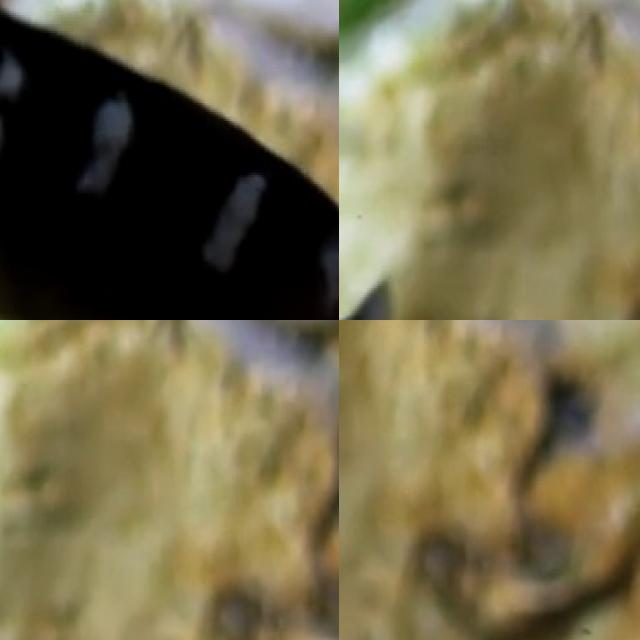fish: (0, 0, 339, 320)
